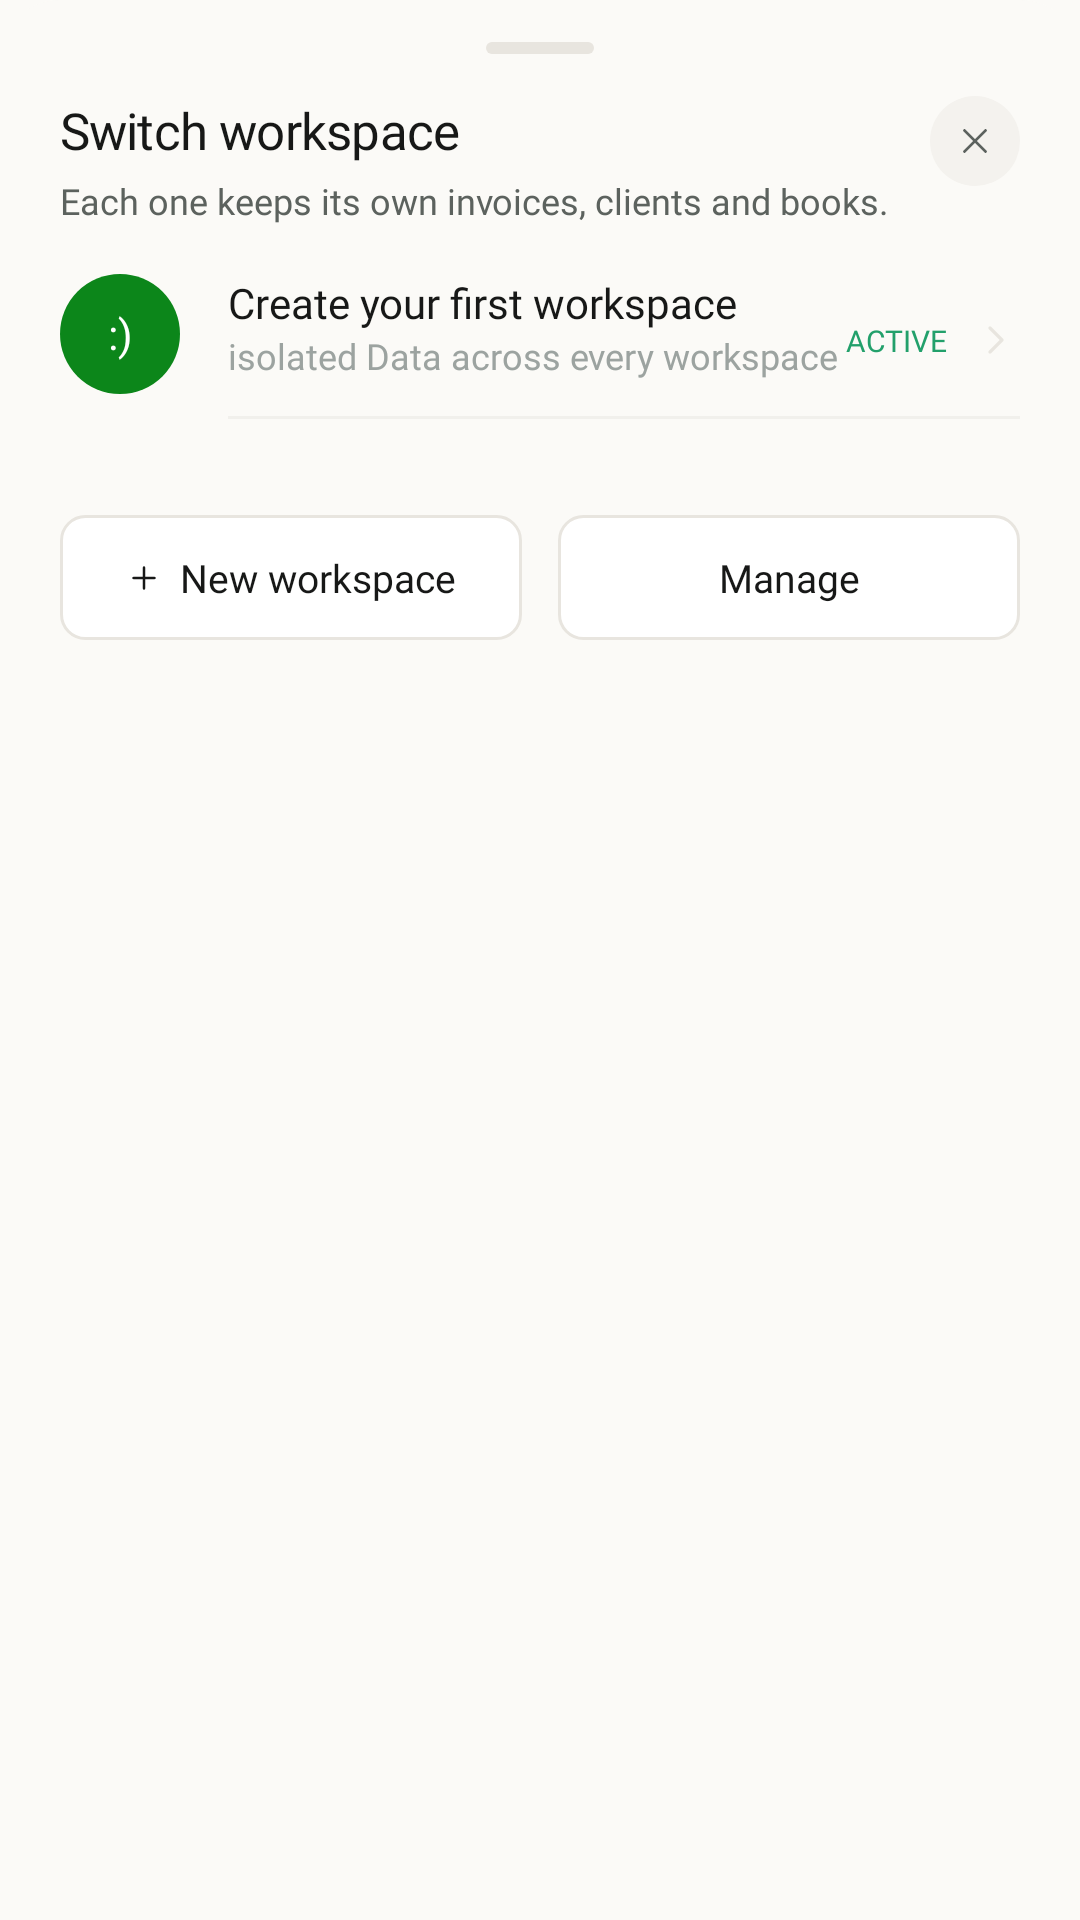

Named icons in this screenshot (1080×1920) and their centers, point (x, y):
close: point (975, 141)
plus: point (144, 578)
